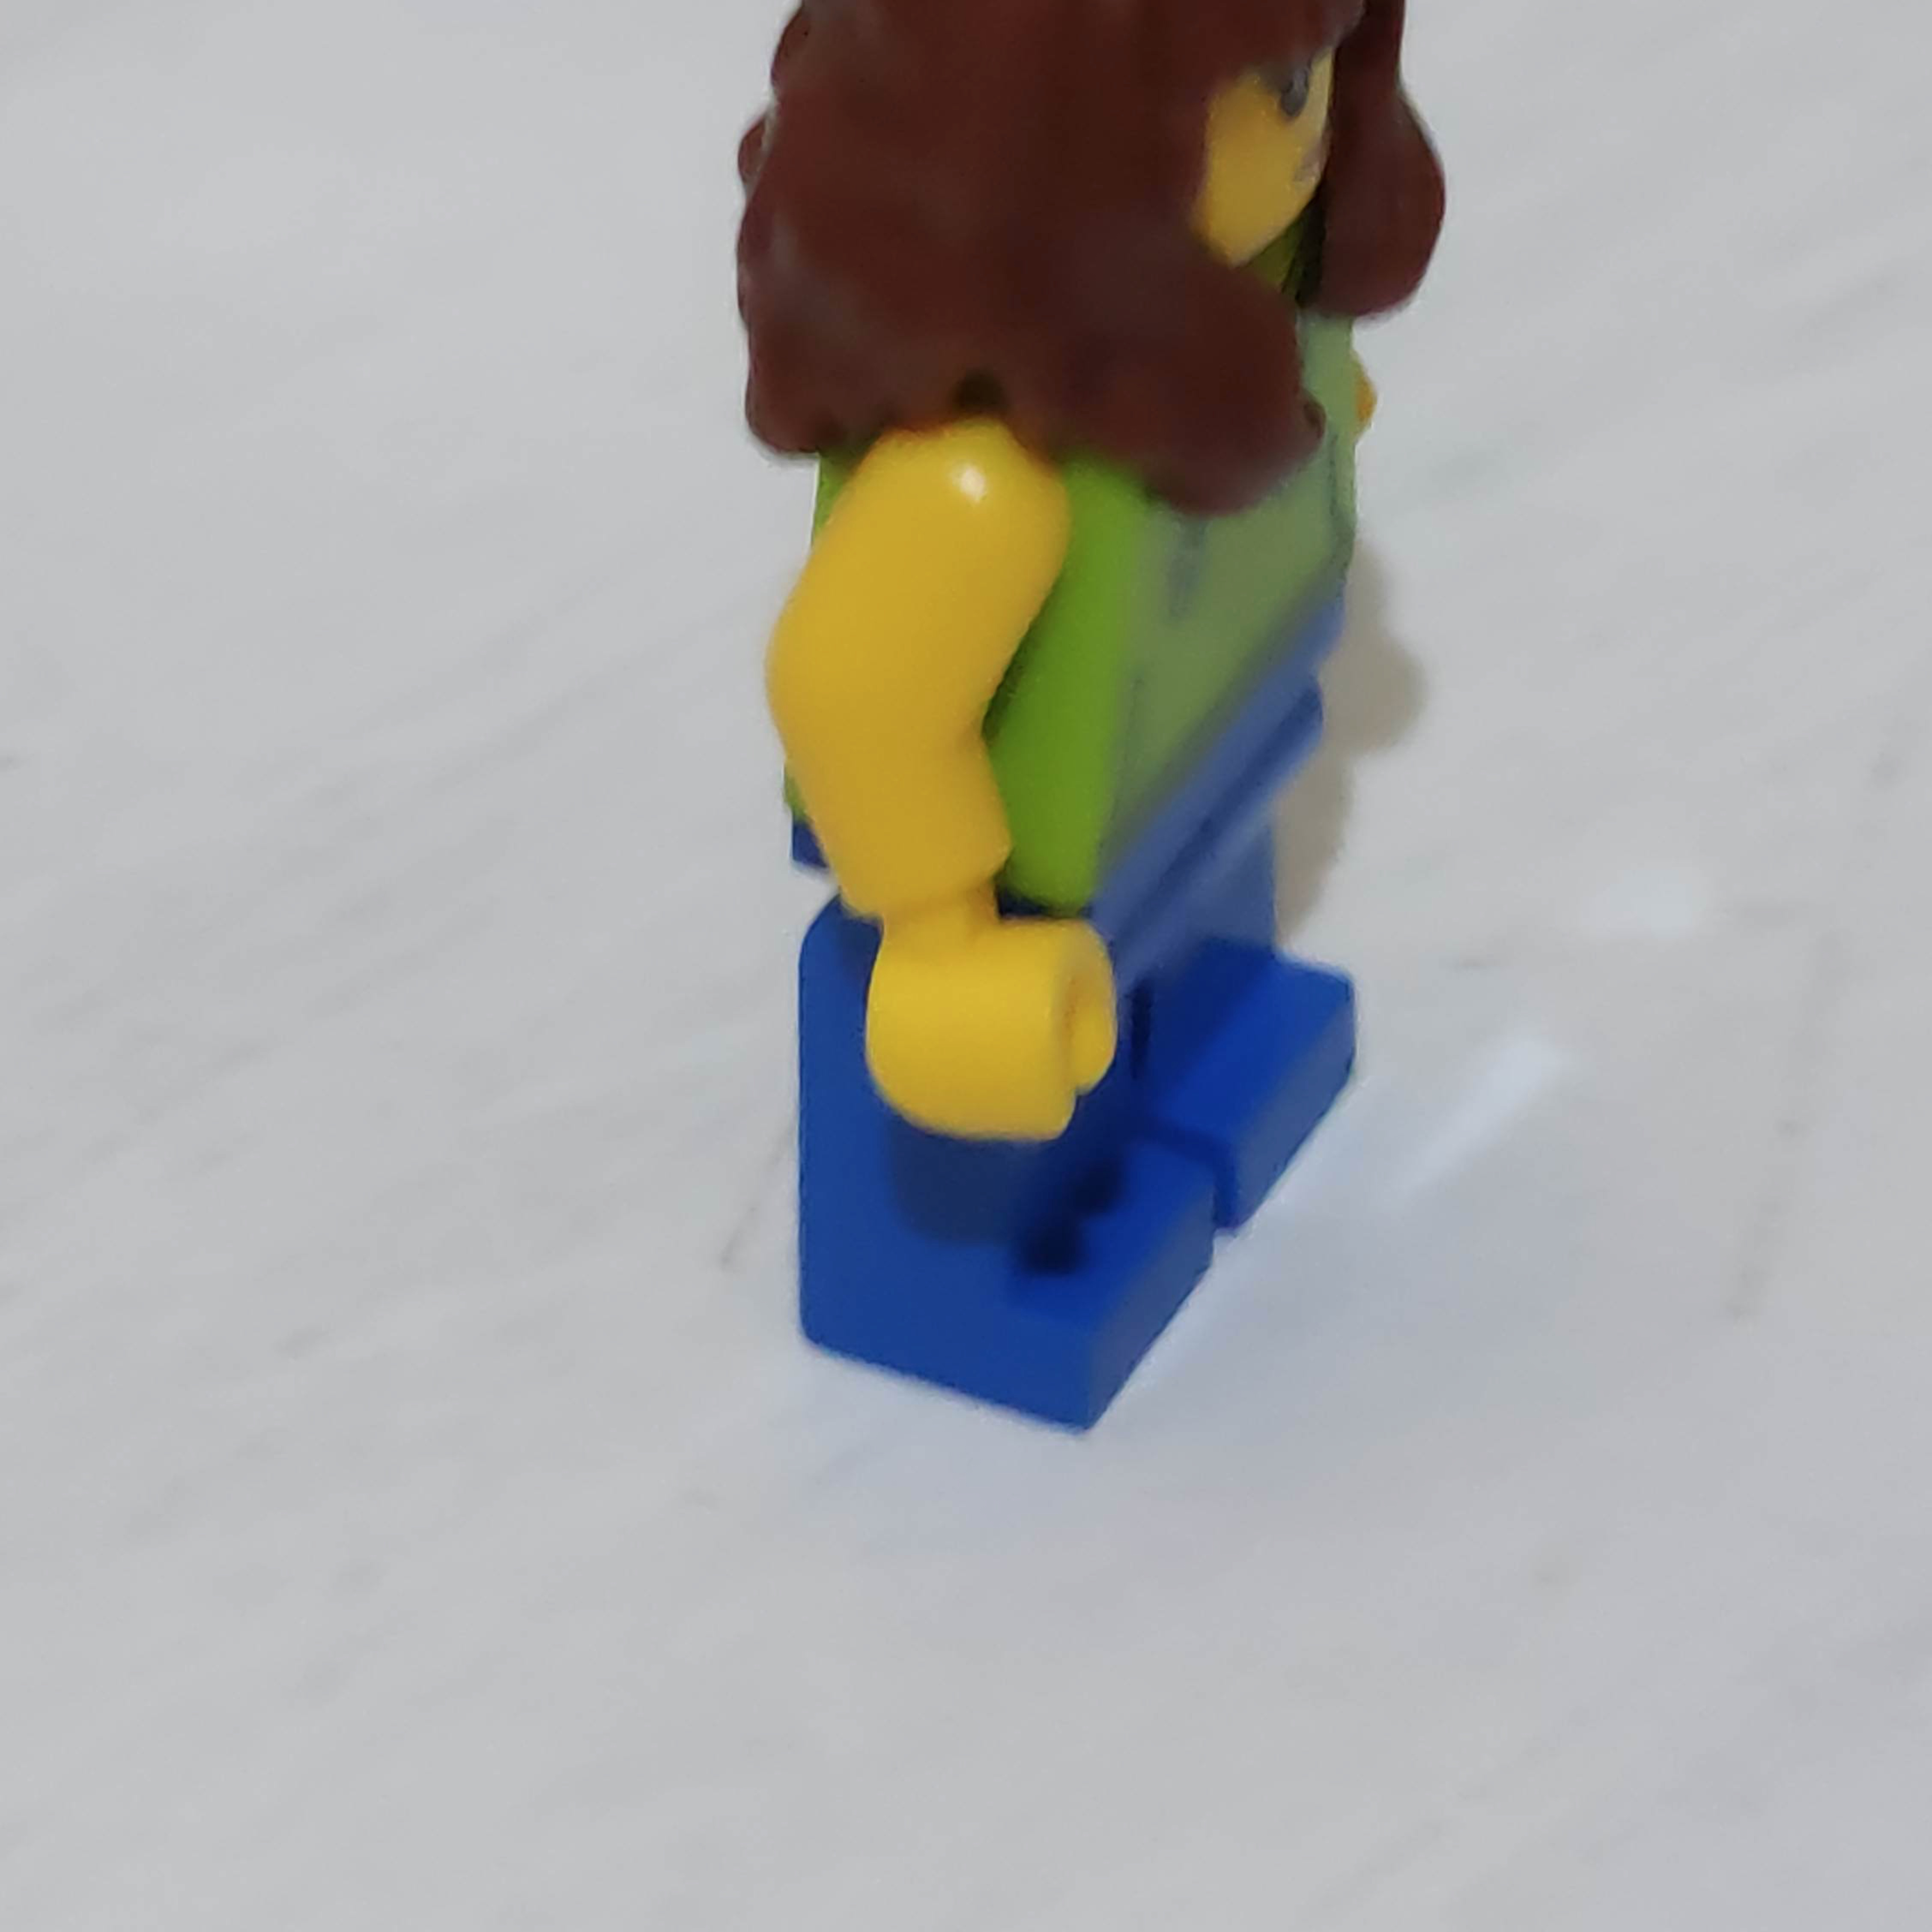lego: (734, 0, 1454, 1447)
